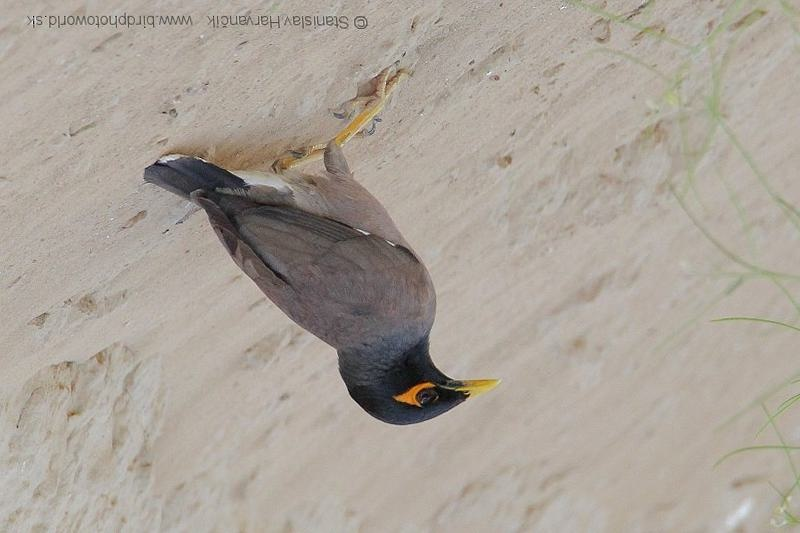myna: (151, 81, 551, 449)
